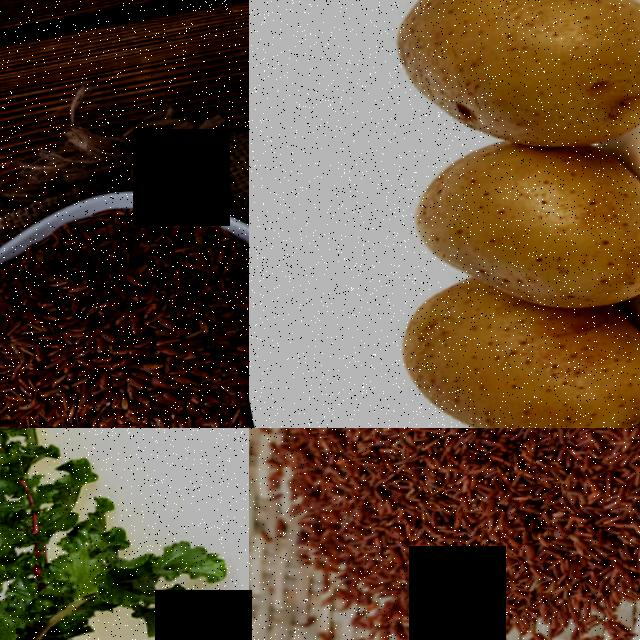potato: (383, 130, 640, 322), (375, 0, 640, 168), (371, 286, 640, 428)
radishes: (0, 494, 172, 640)
red rice: (249, 428, 640, 640), (0, 183, 249, 428)
